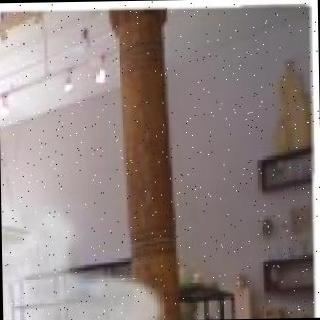smoke: (0, 182, 218, 320)
